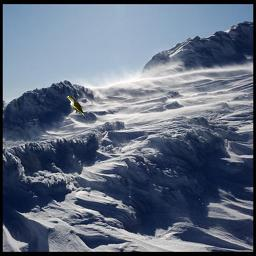Cuckoo: (66, 95, 88, 121)
